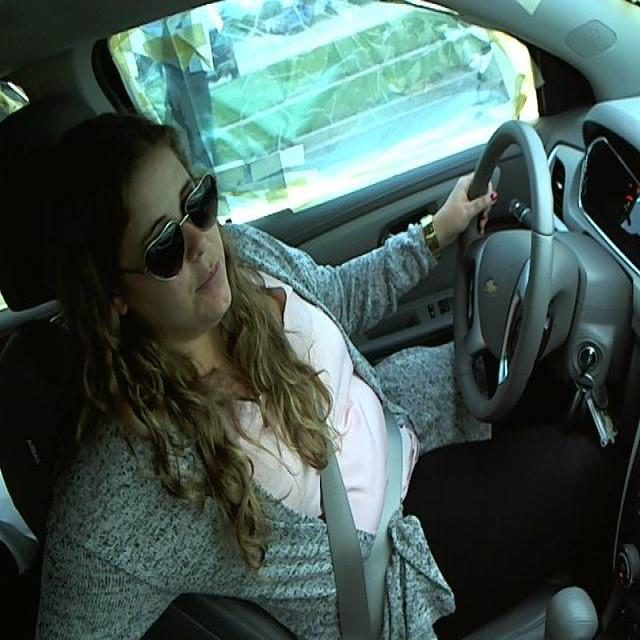seatbelt: (250, 305, 404, 632)
